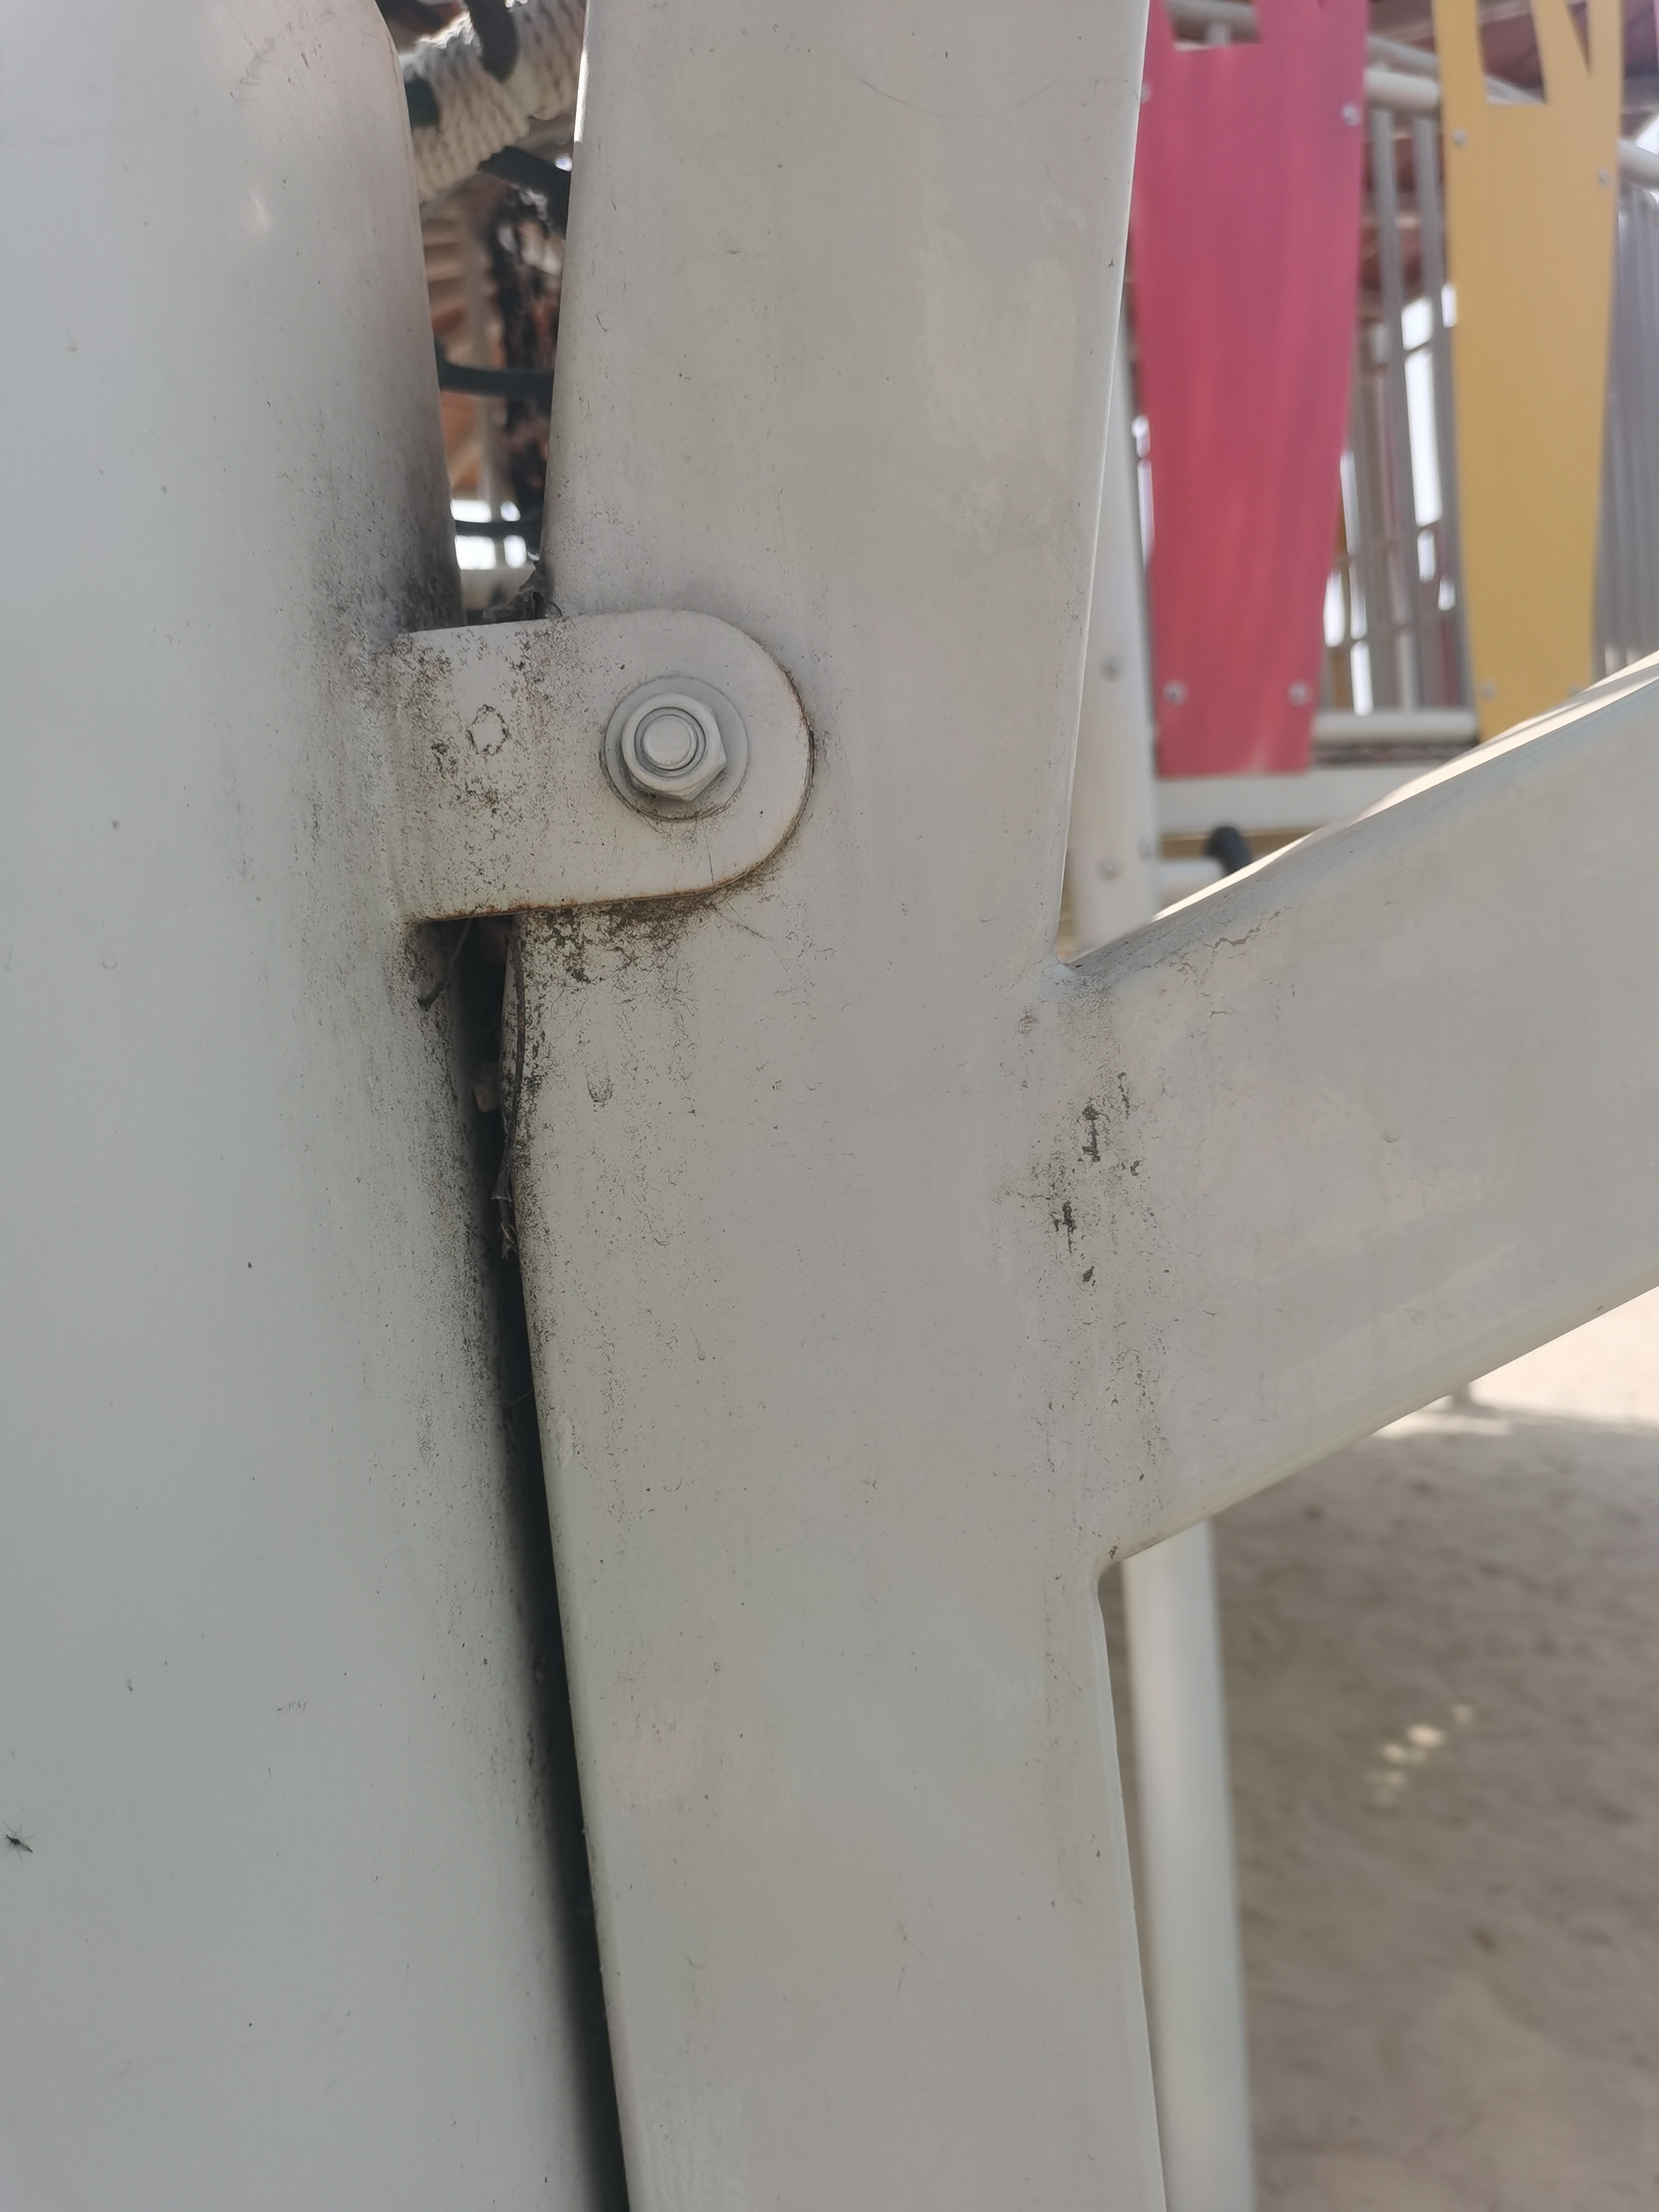bolt_b: (612, 688, 732, 808)
